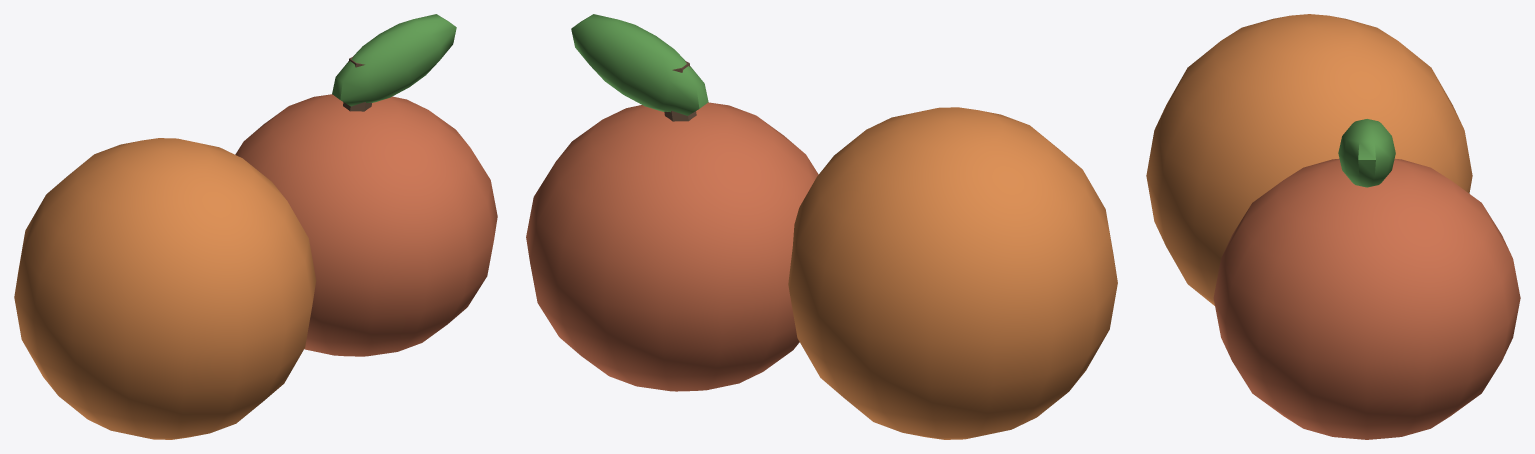
The model's file is fruit.glb.
3 views of the same model, side by side, from view 1: azimuth 30°, elevation 25°; view 2: azimuth 150°, elevation 25°; view 3: azimuth 270°, elevation 25° (orthographic). The views are drawn at different scales.
Parts seen in each view (by area): view 1: ball, food_c, leaf; view 2: ball, food_c, leaf; view 3: food_c, ball, leaf.
Boxes of the visible parts, <box> form: ball: <box>14,138,316,439</box>; food_c: <box>235,94,497,356</box>; leaf: <box>332,14,456,106</box>; ball: <box>788,107,1117,439</box>; food_c: <box>526,102,818,391</box>; leaf: <box>571,14,708,115</box>; food_c: <box>1213,158,1520,439</box>; ball: <box>1146,14,1472,305</box>; leaf: <box>1338,119,1395,187</box>.
Bounding box in the file's own units: 0.305 × 0.1965 × 0.195.
